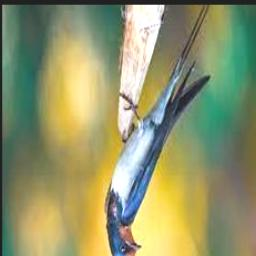Swallow: (106, 5, 211, 256)
